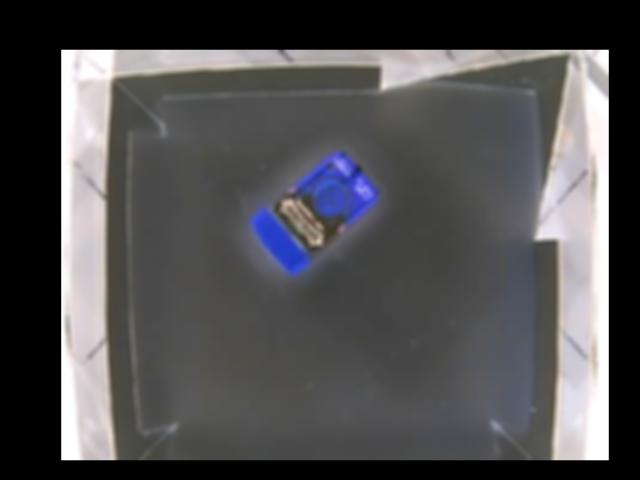Bottle: (252, 148, 382, 275)
